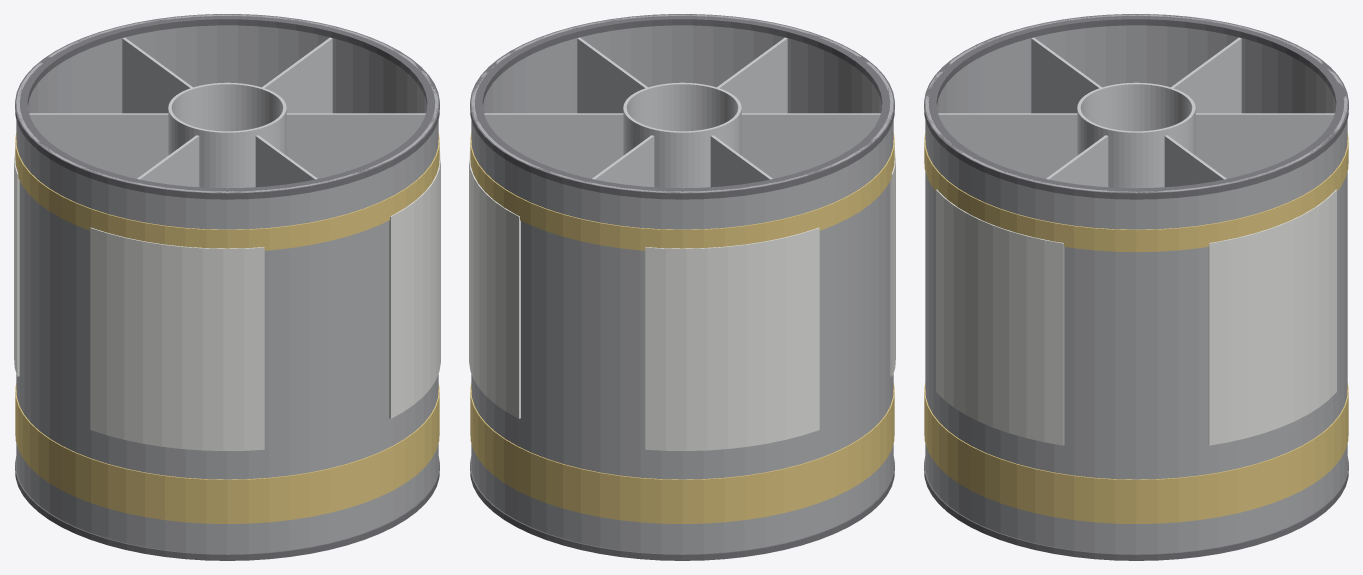
File: cmd10_service_bay_l.glb
The picture shows the model from 3 angles, left to right: view 1: azimuth 30°, elevation 25°; view 2: azimuth 150°, elevation 25°; view 3: azimuth 270°, elevation 25°; orthographic projection.
Visible parts, largest first — view 1: skin, radiator_panels, mli_bands, sector_bulkheads, stack_rings, central_tube; view 2: skin, radiator_panels, mli_bands, sector_bulkheads, stack_rings, central_tube; view 3: skin, radiator_panels, mli_bands, sector_bulkheads, stack_rings, central_tube.
Boxes of the visible parts, left/top/right/bottom form: skin: left=16, top=14, right=438, bottom=554; radiator_panels: left=14, top=150, right=440, bottom=450; mli_bands: left=15, top=133, right=439, bottom=523; sector_bulkheads: left=29, top=37, right=425, bottom=187; stack_rings: left=15, top=14, right=439, bottom=560; central_tube: left=168, top=82, right=286, bottom=188; skin: left=471, top=14, right=893, bottom=554; radiator_panels: left=469, top=150, right=895, bottom=450; mli_bands: left=470, top=133, right=894, bottom=523; sector_bulkheads: left=484, top=37, right=880, bottom=187; stack_rings: left=470, top=14, right=894, bottom=560; central_tube: left=623, top=82, right=741, bottom=188; skin: left=925, top=14, right=1347, bottom=554; radiator_panels: left=936, top=189, right=1336, bottom=445; mli_bands: left=924, top=133, right=1348, bottom=523; sector_bulkheads: left=938, top=37, right=1334, bottom=187; stack_rings: left=924, top=14, right=1348, bottom=560; central_tube: left=1077, top=82, right=1195, bottom=188.
Size of the model in its own units: 3.77 by 3.6 by 3.77.
